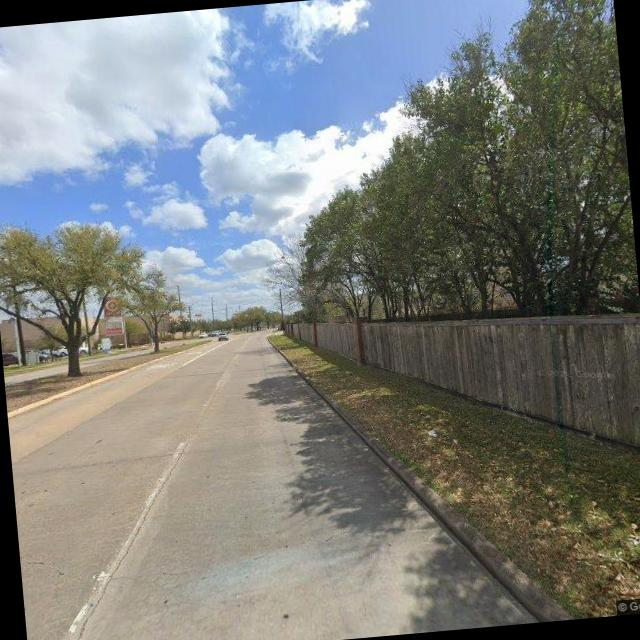crack: (18, 532, 232, 601)
